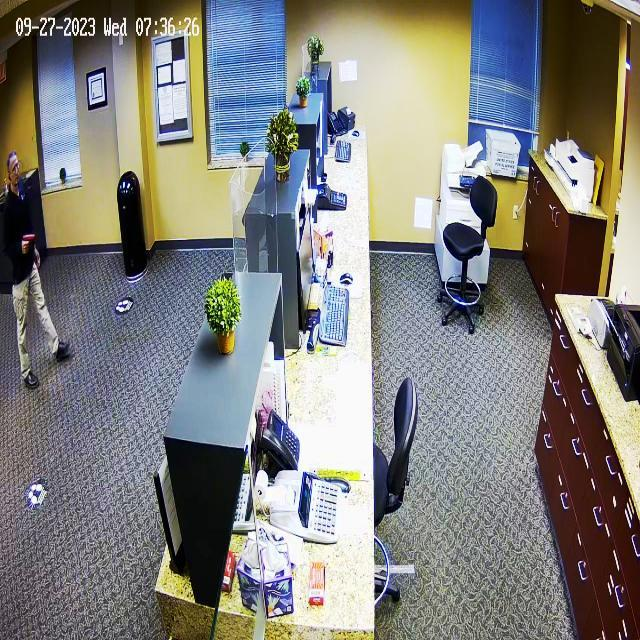Gun: (13, 228, 45, 258)
